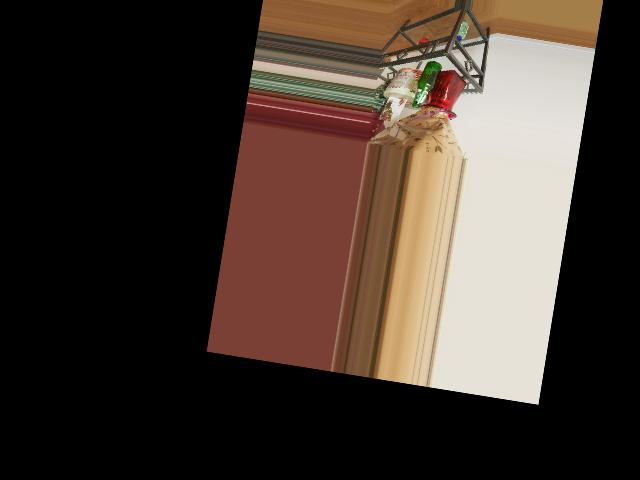beer: (412, 58, 442, 111)
